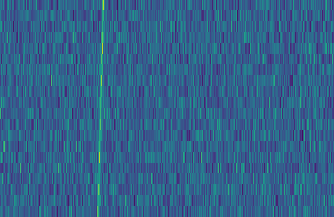signal: (92, 0, 106, 217)
